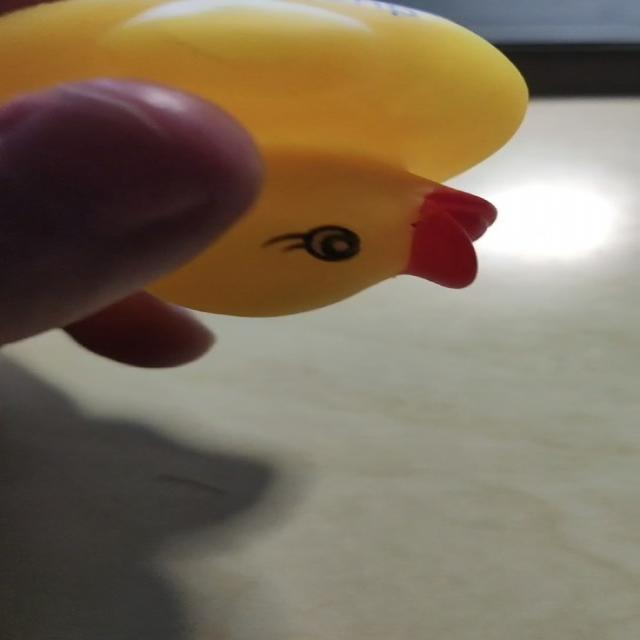rubber-duck: (0, 0, 526, 314)
